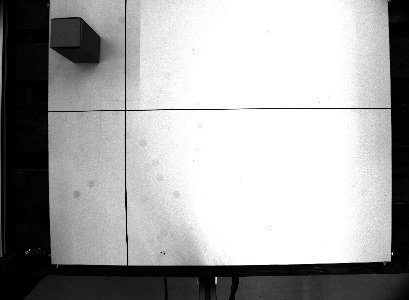b2: (48, 15, 102, 66)
